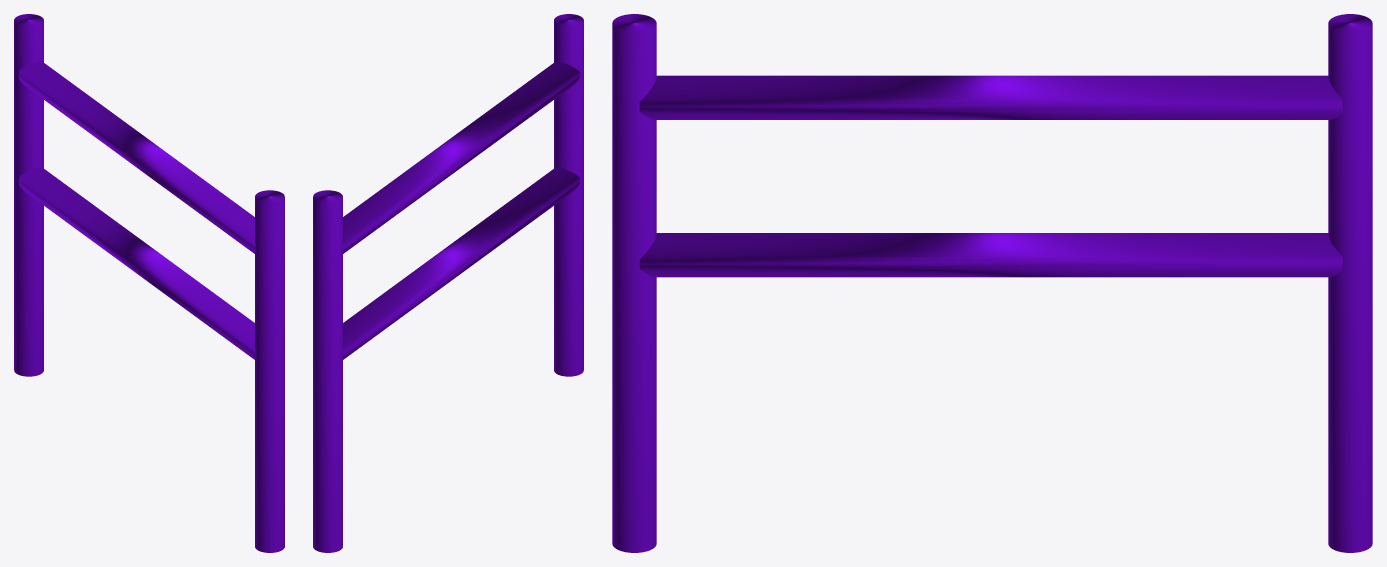
The model's file is fence.fbx.
3 renders of one model, left to right at view 1: azimuth 30°, elevation 25°; view 2: azimuth 150°, elevation 25°; view 3: azimuth 270°, elevation 25°, orthographic. The views are drawn at different scales.
Visible parts, largest first — view 1: Cylinder; view 2: Cylinder; view 3: Cylinder.
Boxes of the visible parts, left/top/right/bottom form: Cylinder: left=14, top=14, right=284, bottom=552; Cylinder: left=313, top=14, right=583, bottom=552; Cylinder: left=612, top=14, right=1372, bottom=552.
Size of the model in its own units: 0.1576 by 2.04 by 2.7.
